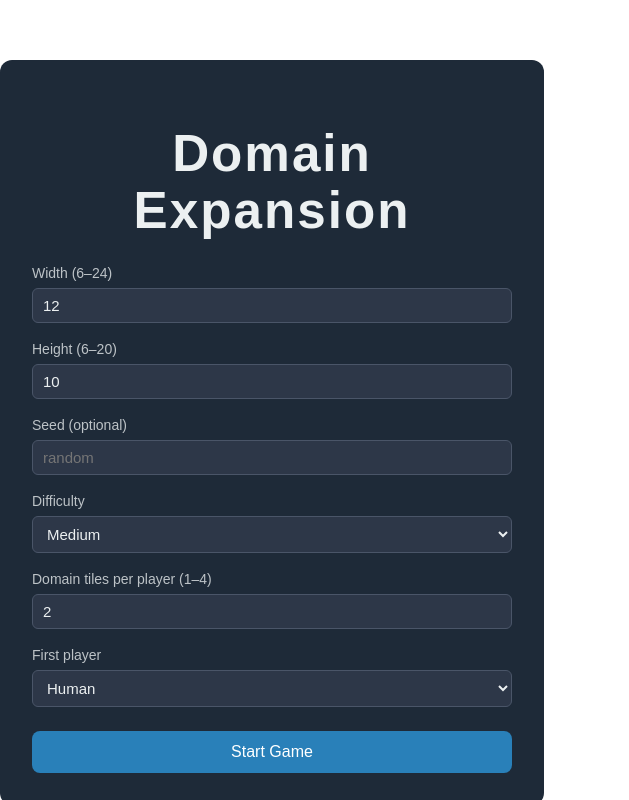
Test case: App: setup → board transition › renders the board after a successful newGame response
Step 1. Click the button with test id "btn-start" → {"x": 272, "y": 752}, box [32,731,512,773]
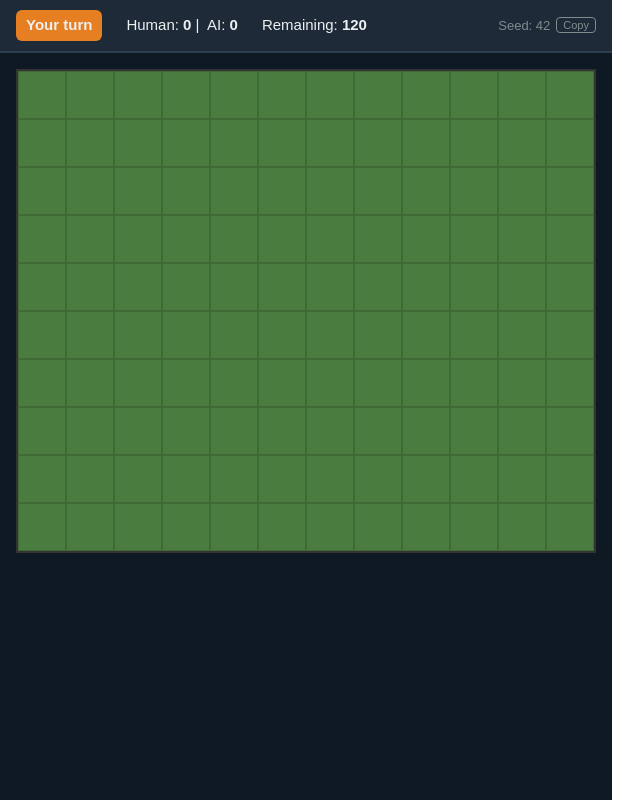
Check: the element with test id "board" is shown, box [16,68,596,552]
